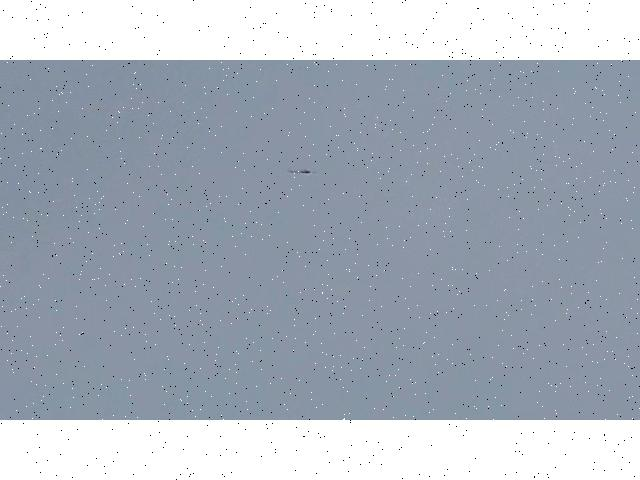Anti-Drone: (284, 167, 318, 175)
